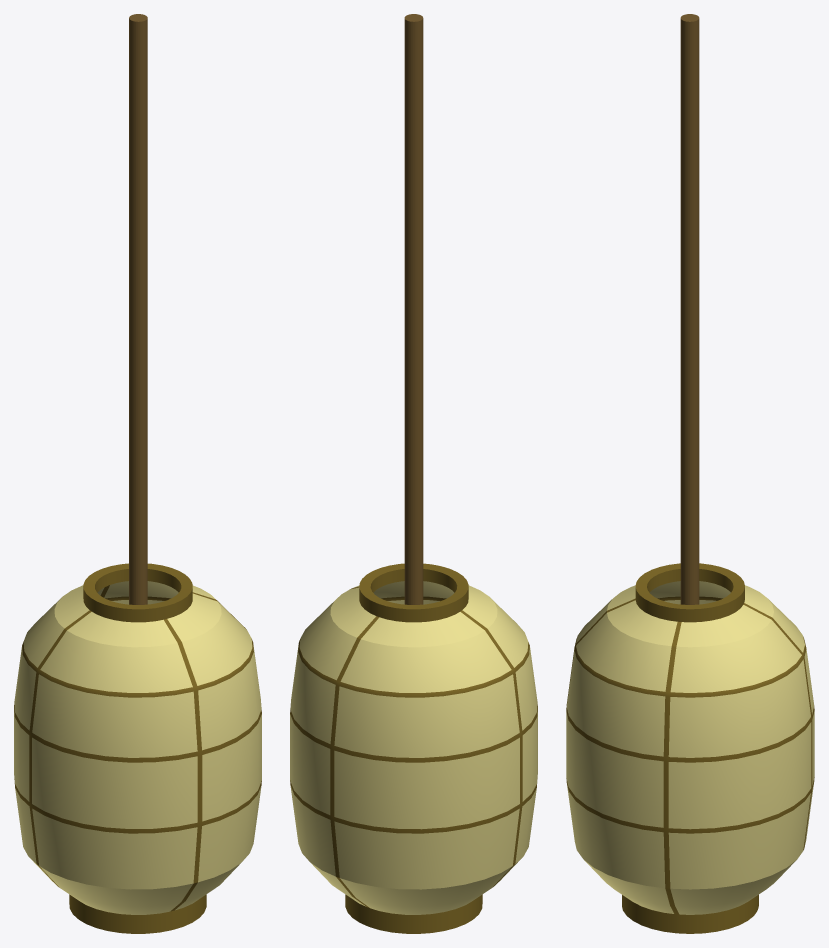
Rendered from lamb_normal.fbx.
The picture shows the model from 3 angles, left to right: view 1: azimuth 30°, elevation 25°; view 2: azimuth 150°, elevation 25°; view 3: azimuth 270°, elevation 25°; orthographic projection.
Parts seen in each view (by area): view 1: Cylinder.003; view 2: Cylinder.003; view 3: Cylinder.003.
Boxes of the visible parts, x1,y1,x2,y2 form: Cylinder.003: (14, 14, 261, 933); Cylinder.003: (290, 14, 537, 933); Cylinder.003: (566, 14, 814, 933).
Bounding box in the file's own units: 29.06 × 115 × 29.06.
